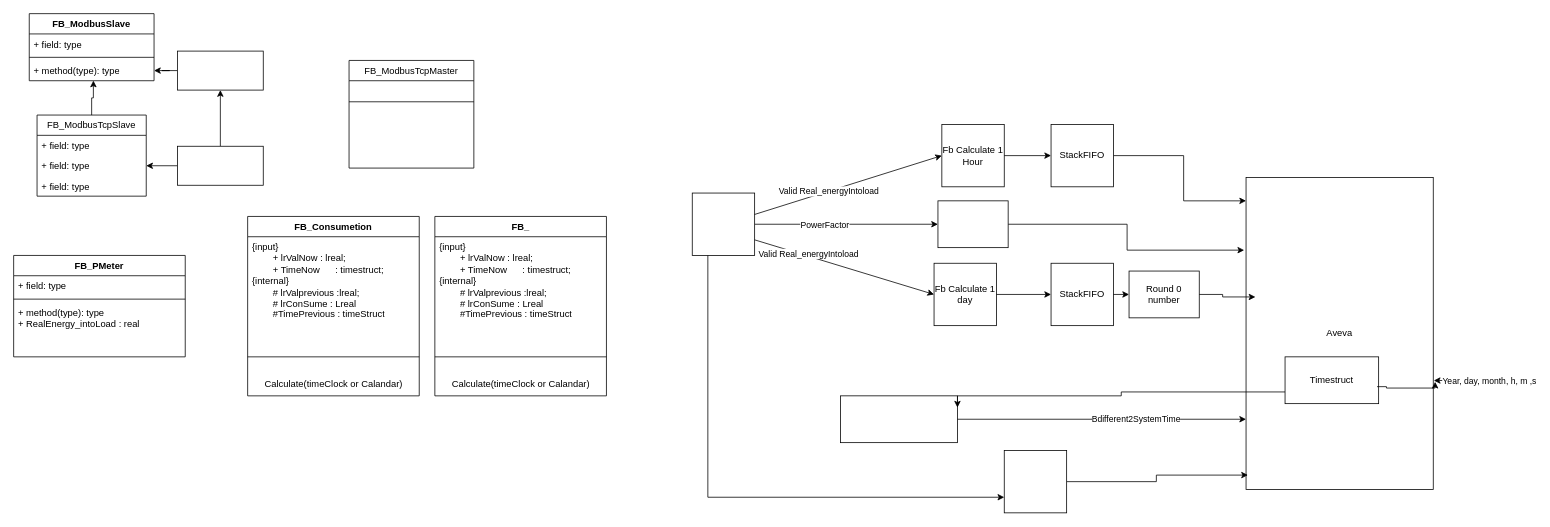
Image size: 1550x527. Some labels were removed from this diagram. The centre of each missing label's shape, as x and y in pixels:
"fb Read" goes at (723,223).
"fbCompare2systemTime" goes at (898,419).
"PMVirtual" goes at (1035,481).
"Round 2 number" goes at (972,224).
"«interface» I_ModbusSlave" goes at (220,70).
"«interface» I_ModbusTcpSlave" goes at (220,165).
